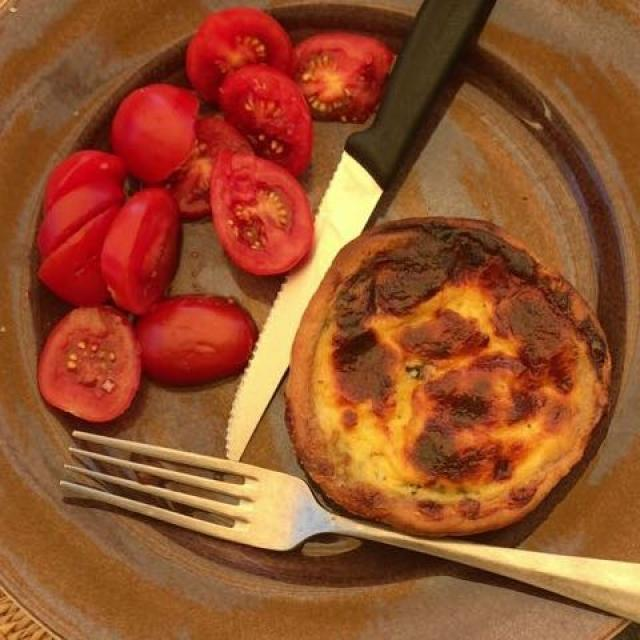quiche: (297, 223, 606, 530)
tomato: (37, 14, 386, 423)
